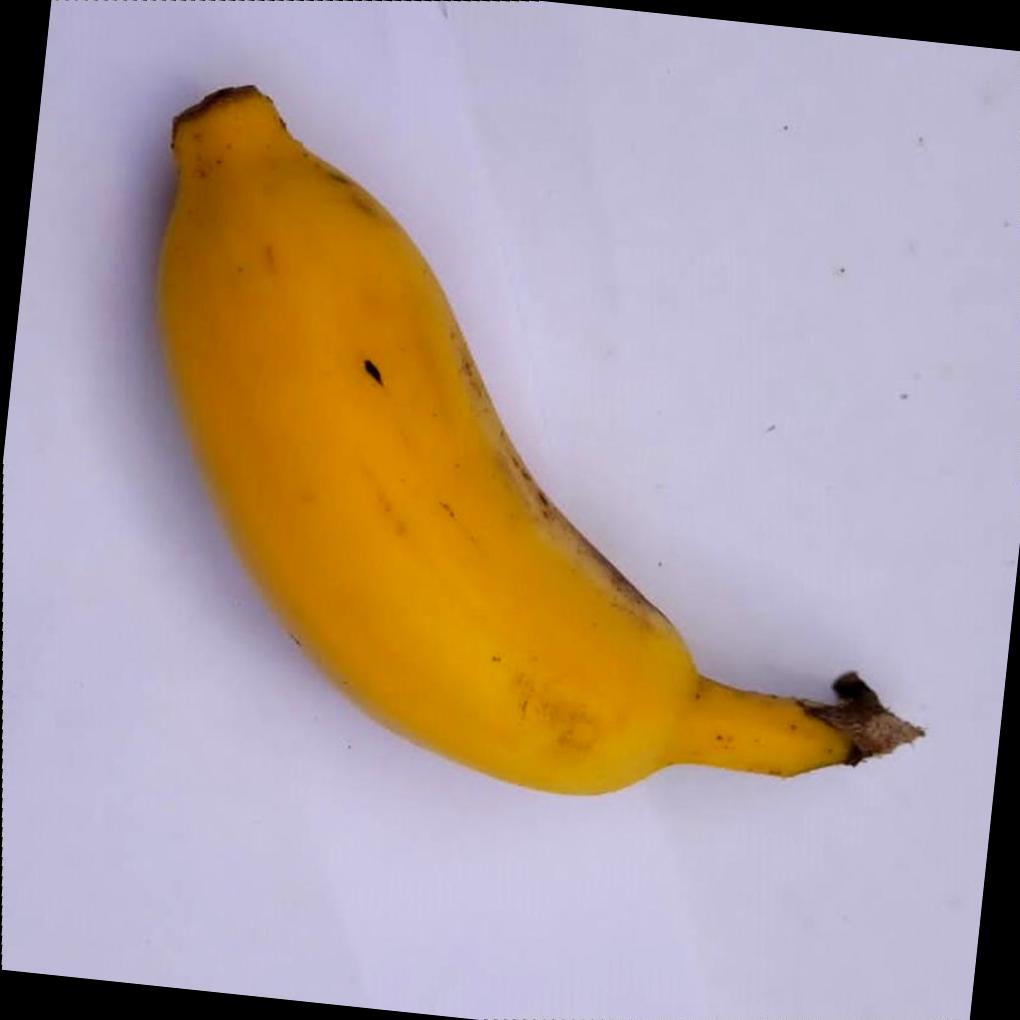Banana Ripe: (90, 69, 922, 880)
